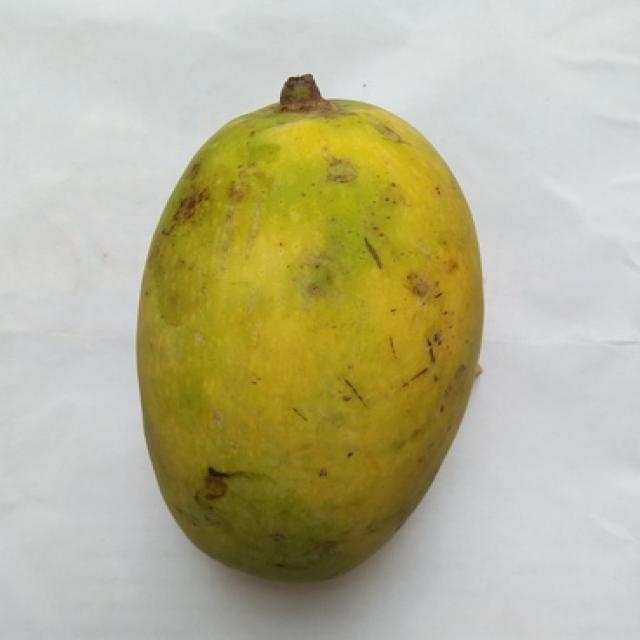Mango: (137, 77, 478, 576)
